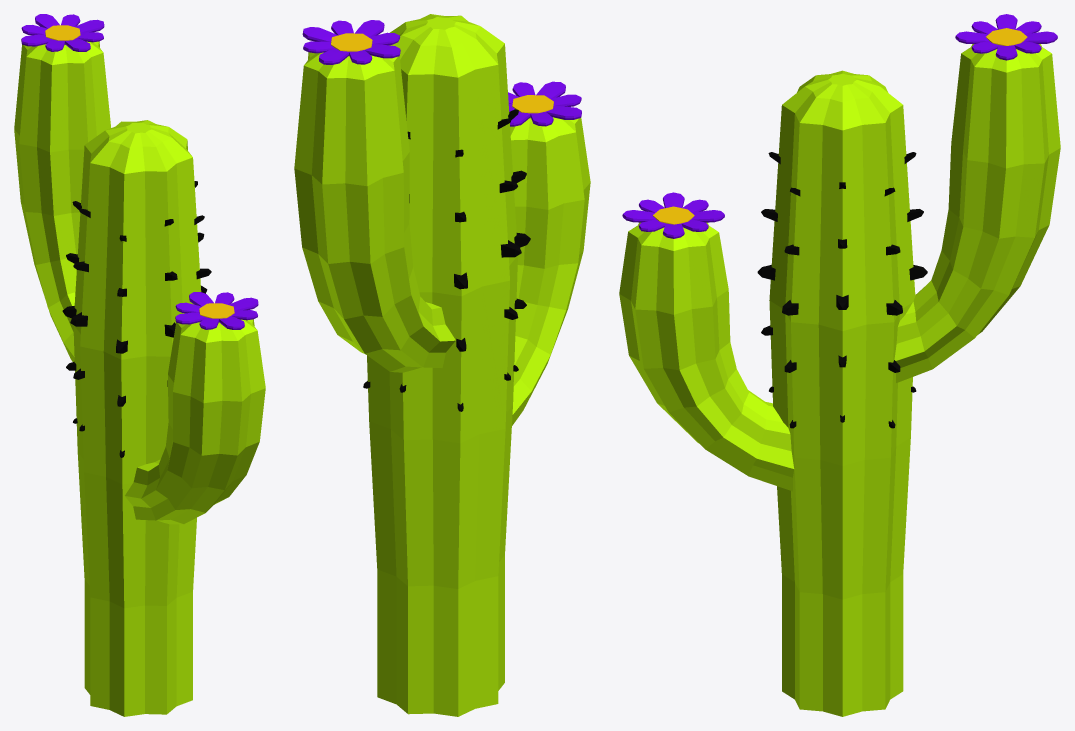
The model's file is Cardon01_02Brazos_Flor_Morada.fbx.
3 renders of one model, left to right at view 1: azimuth 30°, elevation 25°; view 2: azimuth 150°, elevation 25°; view 3: azimuth 270°, elevation 25°, orthographic. The views are drawn at different scales.
Parts seen in each view (by area): view 1: Cactus, Flor_Morada, Espinas; view 2: Cactus, Flor_Morada, Espinas; view 3: Cactus, Flor_Morada, Espinas.
Part boxes in pixels (x1=…): Cactus: x1=14, y1=41, x2=265, y2=716; Flor_Morada: x1=21, y1=14, x2=258, y2=329; Espinas: x1=62, y1=181, x2=211, y2=457; Cactus: x1=294, y1=14, x2=590, y2=716; Flor_Morada: x1=302, y1=20, x2=581, y2=126; Espinas: x1=363, y1=109, x2=530, y2=411; Cactus: x1=619, y1=44, x2=1060, y2=716; Flor_Morada: x1=622, y1=14, x2=1057, y2=238; Espinas: x1=757, y1=152, x2=927, y2=428.
Size of the model in its own units: 53.18 by 226 by 138.
